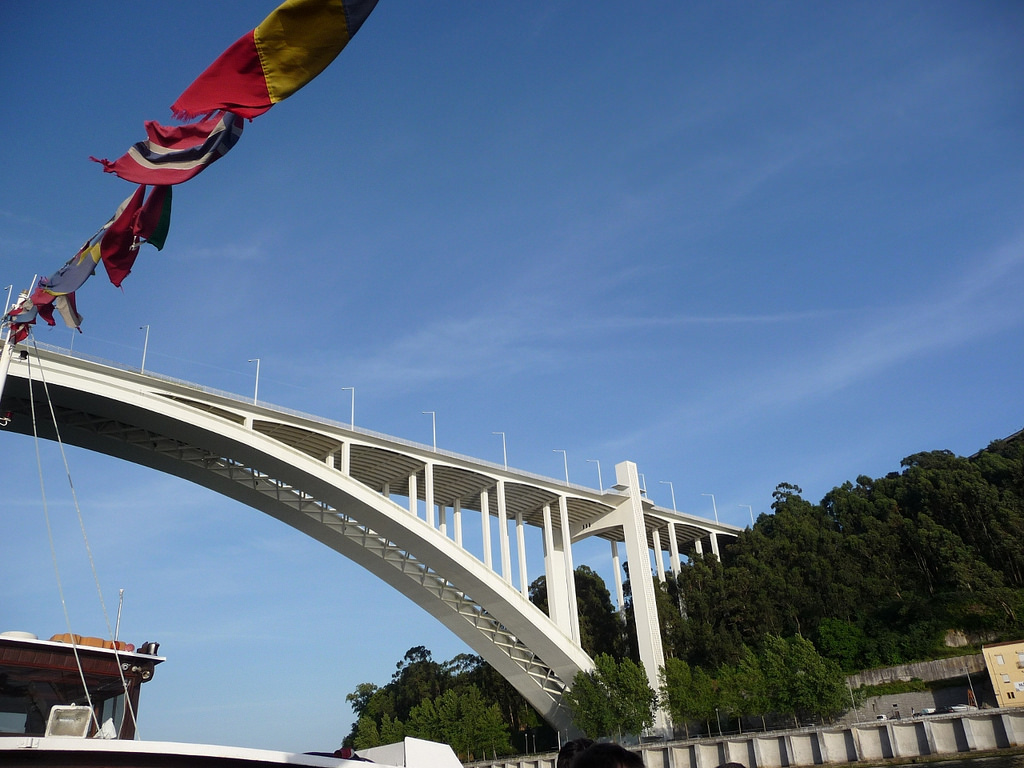arrabida: (0, 332, 748, 751)
